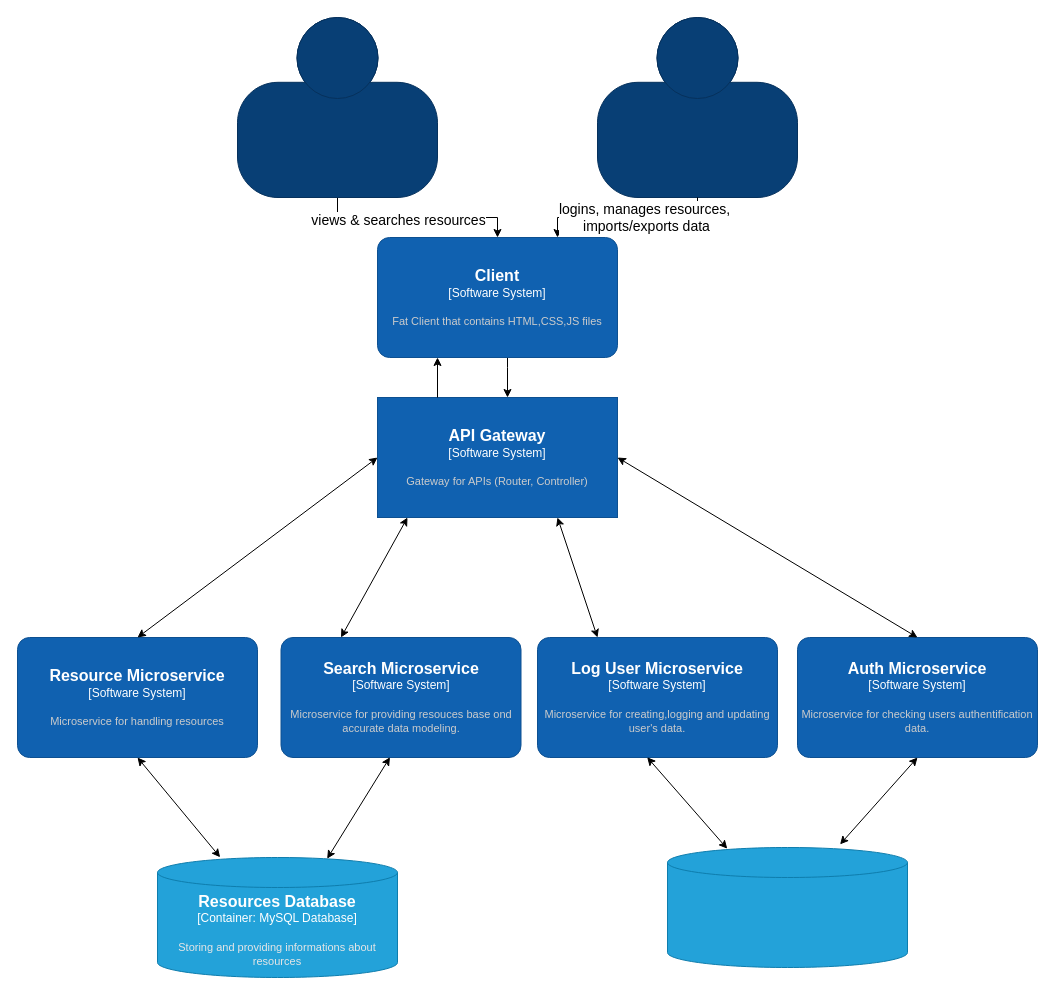
This 1055x995 diagram has some shape labels left out. Here are the shapes that lost their labels. From the top down, the box of each, then its label:
(236, 16, 438, 198): Guest [Person] User of ReFi without an account
(596, 16, 798, 198): Admin [Person] User with a valid account.
(666, 846, 908, 968): Users Database [Container: MySQL Database] Storing user's sensitive data
